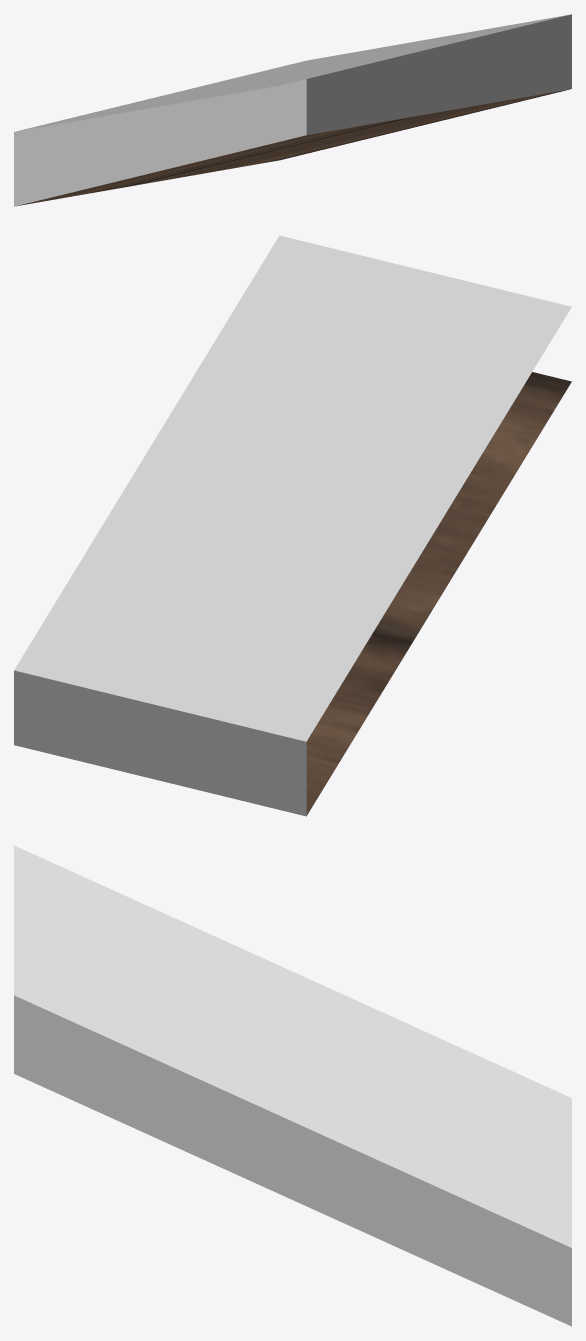
The model's file is Roof_3mH_Edge_D_Corner_A.fbx.
3 views of the same model, one above another, from view 1: azimuth 30°, elevation 25°; view 2: azimuth 150°, elevation 25°; view 3: azimuth 270°, elevation 25° (orthographic). The views are drawn at different scales.
Parts seen in each view (by area): view 1: Roof_3mH_Edge_D_Corner_A; view 2: Roof_3mH_Edge_D_Corner_A; view 3: Roof_3mH_Edge_D_Corner_A.
Part boxes in pixels (<box>): Roof_3mH_Edge_D_Corner_A: <box>14,14,571,206</box>; Roof_3mH_Edge_D_Corner_A: <box>14,235,571,816</box>; Roof_3mH_Edge_D_Corner_A: <box>14,845,571,1326</box>.
Bounding box in the file's own units: 0.6144 × 0.966 × 0.633.
